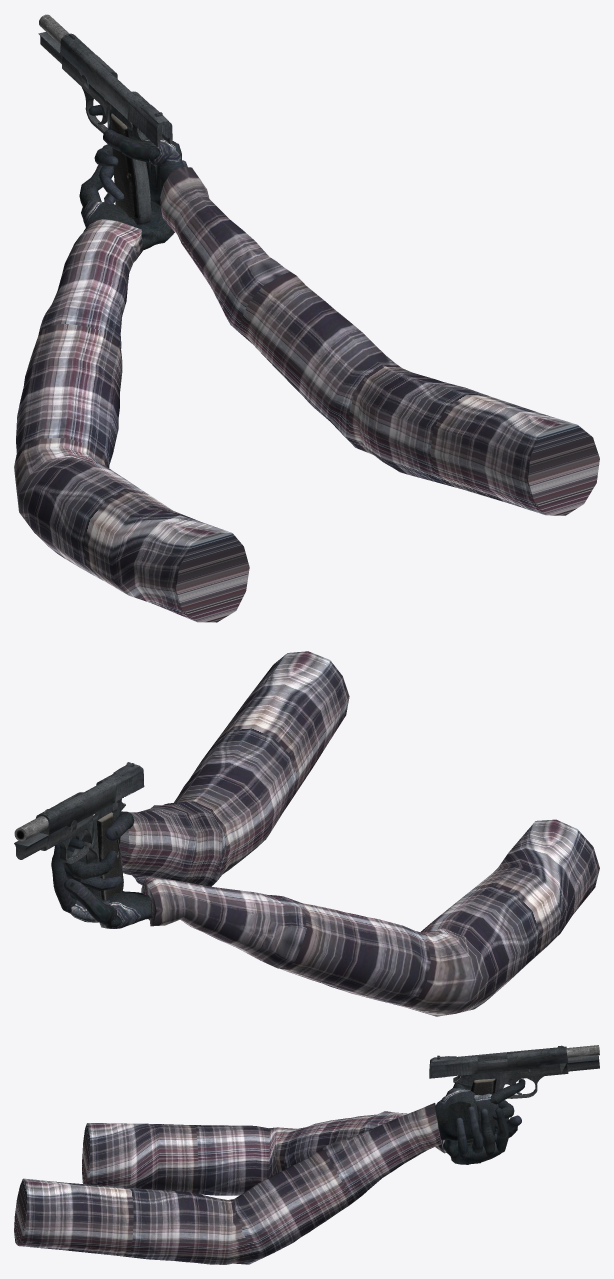
Rendered from hipower_fire.fbx.
3 views of the same model, one above another, from view 1: azimuth 30°, elevation 25°; view 2: azimuth 150°, elevation 25°; view 3: azimuth 270°, elevation 25° (orthographic). The views are drawn at different scales.
Parts seen in each view (by area): view 1: rarm, larm, hipower_slide, lhand, rhand, hipower_plasticgrip, hipower_grip, rthumb, hipower_body; view 2: larm, rarm, hipower_slide, lhand, hipower_body, hipower_plasticgrip, lthumb, rmfinger, lpfinger, hipower_grip, rrfinger, rthumb (+1 smaller); view 3: rarm, larm, hipower_slide, rhand, hipower_body, lhand, lmfinger, hipower_grip, lpfinger, lrfinger, rpfinger, hipower_plasticgrip (+2 smaller).
Part boxes in pixels (box(x1,y1,x2,y2)): rarm: box(160, 166, 599, 515); larm: box(14, 219, 249, 622); hipower_slide: box(60, 33, 172, 147); lhand: box(81, 200, 174, 250); rhand: box(145, 138, 184, 206); hipower_plasticgrip: box(110, 112, 137, 219); hipower_grip: box(108, 105, 151, 225); rthumb: box(103, 129, 152, 163); hipower_body: box(38, 32, 109, 129); larm: box(141, 819, 599, 1016); rarm: box(119, 651, 349, 886); hipower_slide: box(36, 766, 144, 834); lhand: box(70, 887, 152, 928); hipower_body: box(14, 814, 93, 859); hipower_plasticgrip: box(86, 812, 123, 900); lthumb: box(64, 878, 116, 928); rmfinger: box(64, 850, 117, 879); lpfinger: box(51, 844, 76, 913); hipower_grip: box(83, 799, 125, 898); rrfinger: box(64, 865, 122, 891); rthumb: box(105, 811, 134, 840); rarm: box(14, 1103, 442, 1264); larm: box(82, 1111, 446, 1195); hipower_slide: box(429, 1046, 567, 1078); rhand: box(435, 1088, 498, 1141); hipower_body: box(499, 1055, 599, 1089); lhand: box(443, 1140, 501, 1164); lmfinger: box(480, 1108, 494, 1155); hipower_grip: box(453, 1072, 500, 1144); lpfinger: box(495, 1107, 508, 1152); lrfinger: box(468, 1106, 483, 1153); rpfinger: box(490, 1079, 525, 1104); hipower_plasticgrip: box(467, 1078, 496, 1143).
Bounding box in the file's own units: 19.01 × 14.11 × 34.08.
